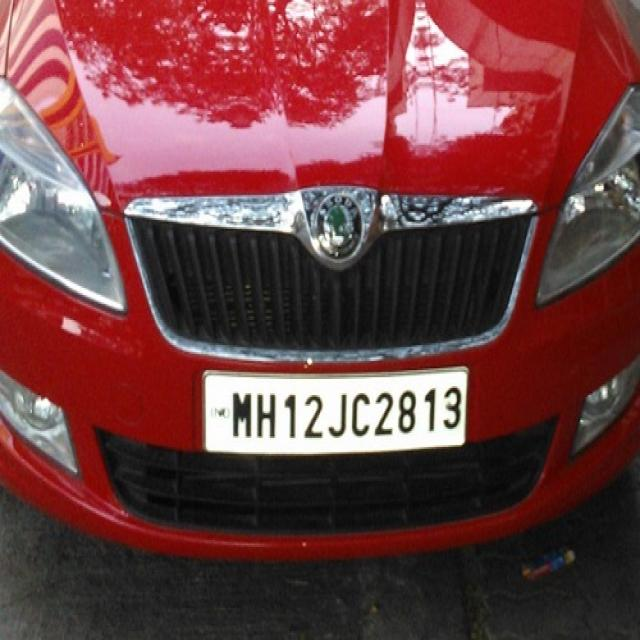license-plate: (201, 363, 466, 452)
